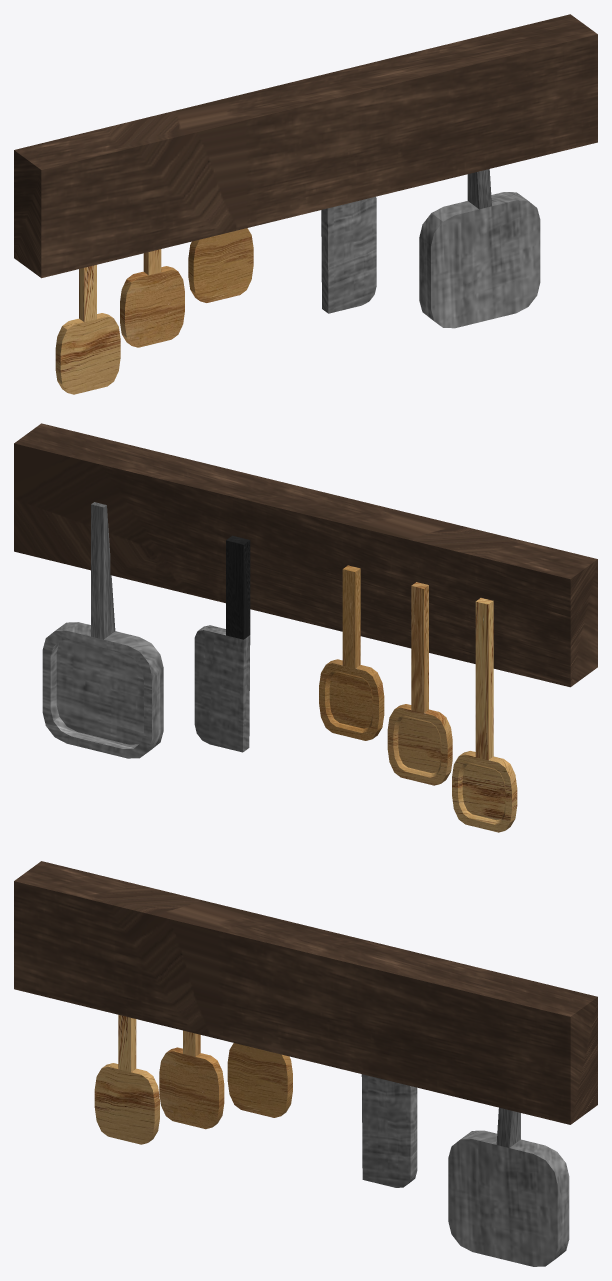
Rendered from utensilboard_kitchen.fbx.
3 renders of one model, top to bottom at view 1: azimuth 30°, elevation 25°; view 2: azimuth 150°, elevation 25°; view 3: azimuth 330°, elevation 25°, orthographic.
Visible parts, largest first — view 1: utensil_board, skillet, butcher_knife, spatular3, spatular2, spatular1; view 2: utensil_board, skillet, butcher_knife, spatular3, spatular2, spatular1; view 3: utensil_board, skillet, butcher_knife, spatular3, spatular2, spatular1.
Boxes of the visible parts, box(x1,y1,x2,y2) form: utensil_board: box(14, 14, 597, 278); skillet: box(419, 169, 540, 328); butcher_knife: box(321, 196, 376, 313); spatular3: box(55, 265, 120, 394); spatular2: box(120, 249, 184, 347); spatular1: box(188, 228, 253, 302); utensil_board: box(14, 423, 597, 687); skillet: box(42, 502, 163, 758); butcher_knife: box(194, 535, 250, 752); spatular3: box(452, 598, 517, 832); spatular2: box(387, 582, 452, 785); spatular1: box(319, 565, 384, 740); utensil_board: box(14, 861, 597, 1124); skillet: box(448, 1107, 569, 1266); butcher_knife: box(361, 1074, 417, 1187); spatular3: box(94, 1015, 159, 1144); spatular2: box(159, 1030, 224, 1129); spatular1: box(227, 1043, 292, 1117).
Bounding box in the file's own units: 116 × 55.82 × 13.41.
